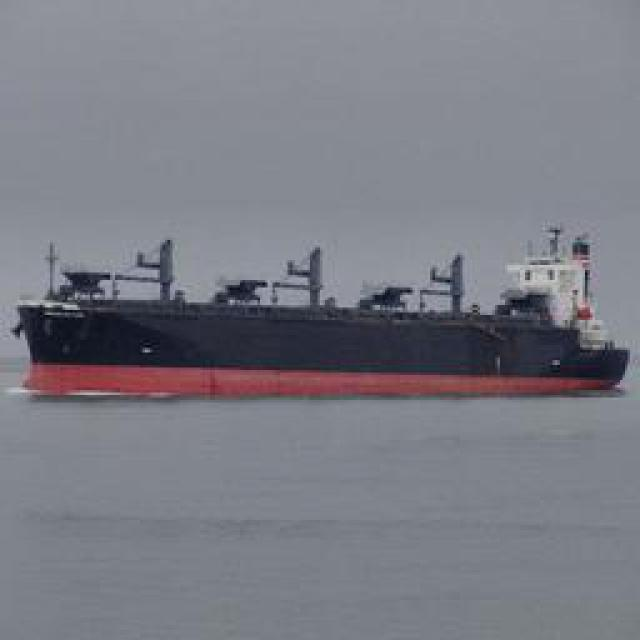Ship: (13, 226, 640, 384)
